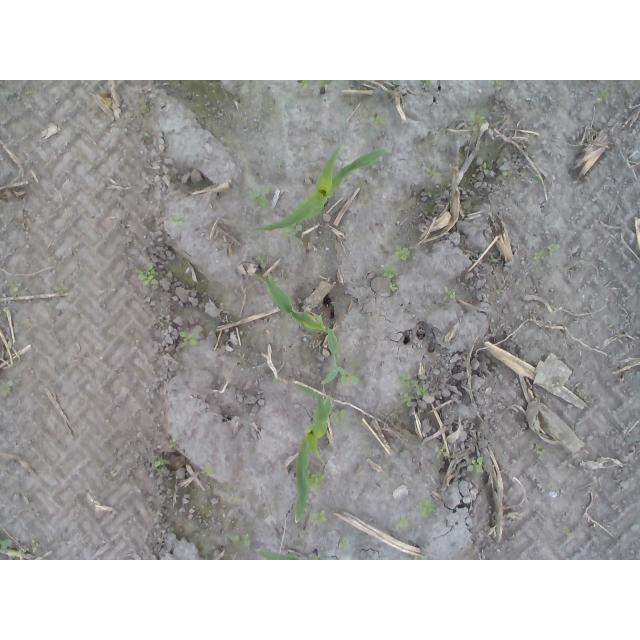Maize: (253, 143, 387, 238), (259, 277, 344, 388), (295, 385, 330, 523), (296, 81, 336, 96), (257, 548, 303, 560)
Weeds: (399, 370, 429, 396), (136, 263, 160, 289), (415, 495, 437, 520), (465, 110, 488, 127), (310, 471, 327, 493), (226, 532, 251, 546), (341, 367, 360, 385), (368, 112, 389, 128), (178, 330, 199, 346), (536, 243, 560, 257), (309, 510, 327, 527), (251, 192, 269, 209), (394, 244, 411, 262), (400, 391, 417, 409), (382, 264, 400, 280), (151, 455, 170, 470), (467, 456, 483, 473), (0, 379, 14, 398), (479, 160, 494, 177), (337, 536, 352, 552), (500, 159, 513, 177), (426, 167, 447, 178), (443, 286, 457, 302), (435, 445, 450, 459), (334, 409, 349, 423), (139, 98, 152, 114), (1, 537, 12, 555), (202, 463, 216, 477), (398, 513, 410, 529), (256, 255, 268, 270), (54, 282, 67, 295), (597, 88, 609, 102), (170, 212, 184, 224), (30, 537, 39, 553), (388, 283, 399, 293), (168, 439, 178, 449), (7, 279, 17, 289), (7, 88, 17, 97), (536, 447, 544, 457), (495, 80, 507, 86), (168, 526, 177, 534), (459, 160, 466, 168), (447, 161, 453, 168)
